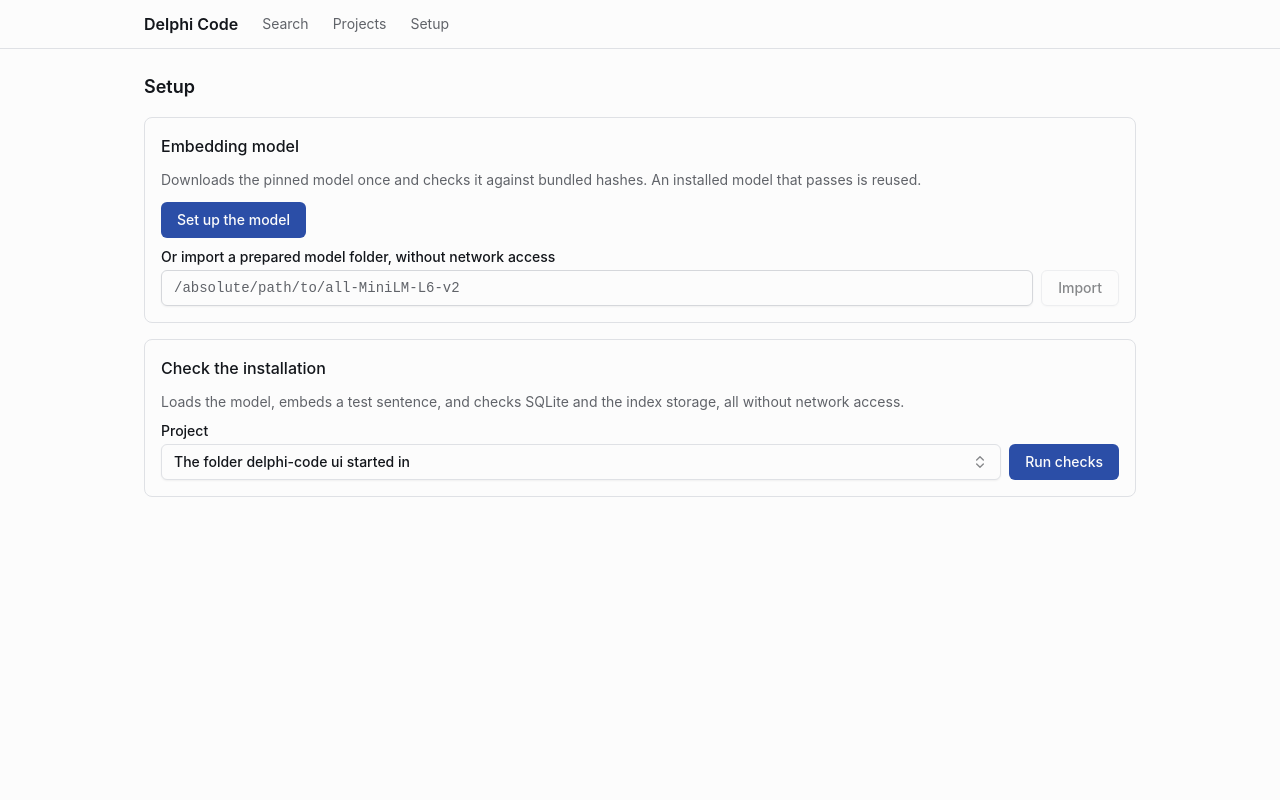
Test case: the setup page › imports a prepared model and reports it in the activity panel
In the field labelled "Or import a prepared model folder, without network access": point(597, 288) [161,270,1033,306], type " /prepared/model "
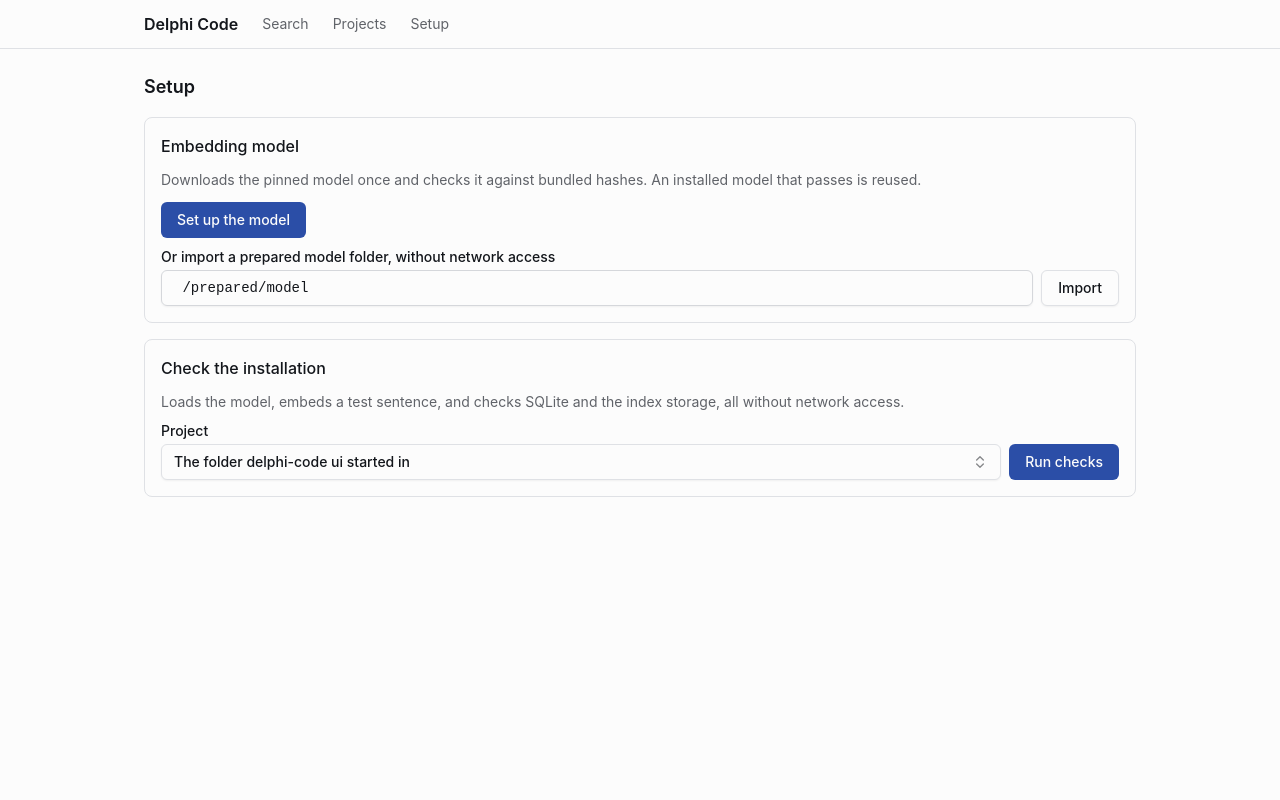
Click the button "Import": point(1080, 288) [1041,270,1119,306]
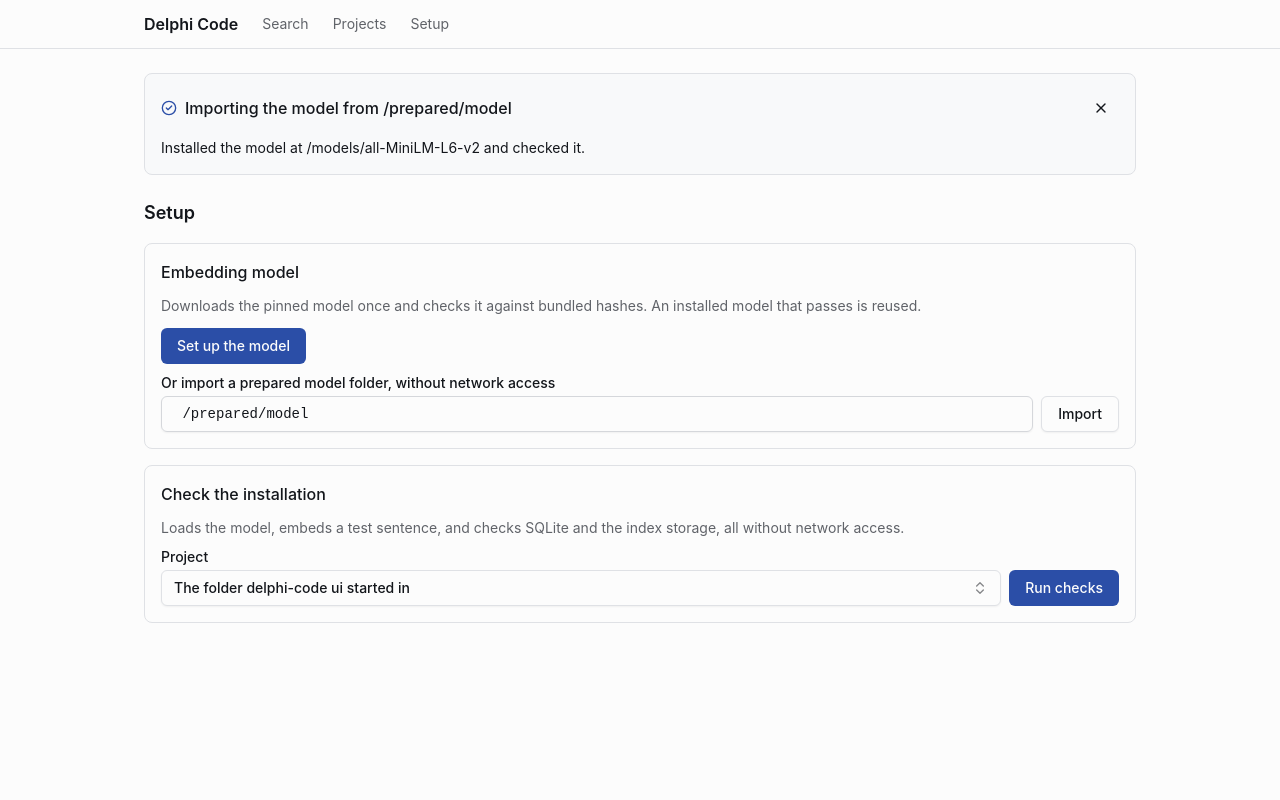
Now the text "Installed the model at /models/all-MiniLM-L6-v2 and checked it." is shown, box [161,139,585,156]
